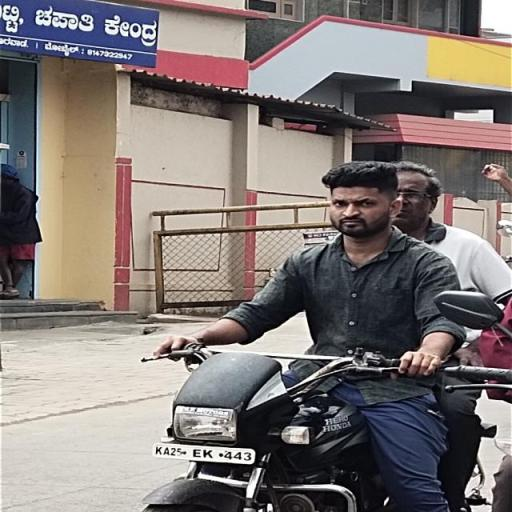bike: (130, 144, 512, 512)
numberplate: (147, 438, 254, 472)
withouthelmet: (327, 163, 398, 234), (392, 164, 436, 230)
